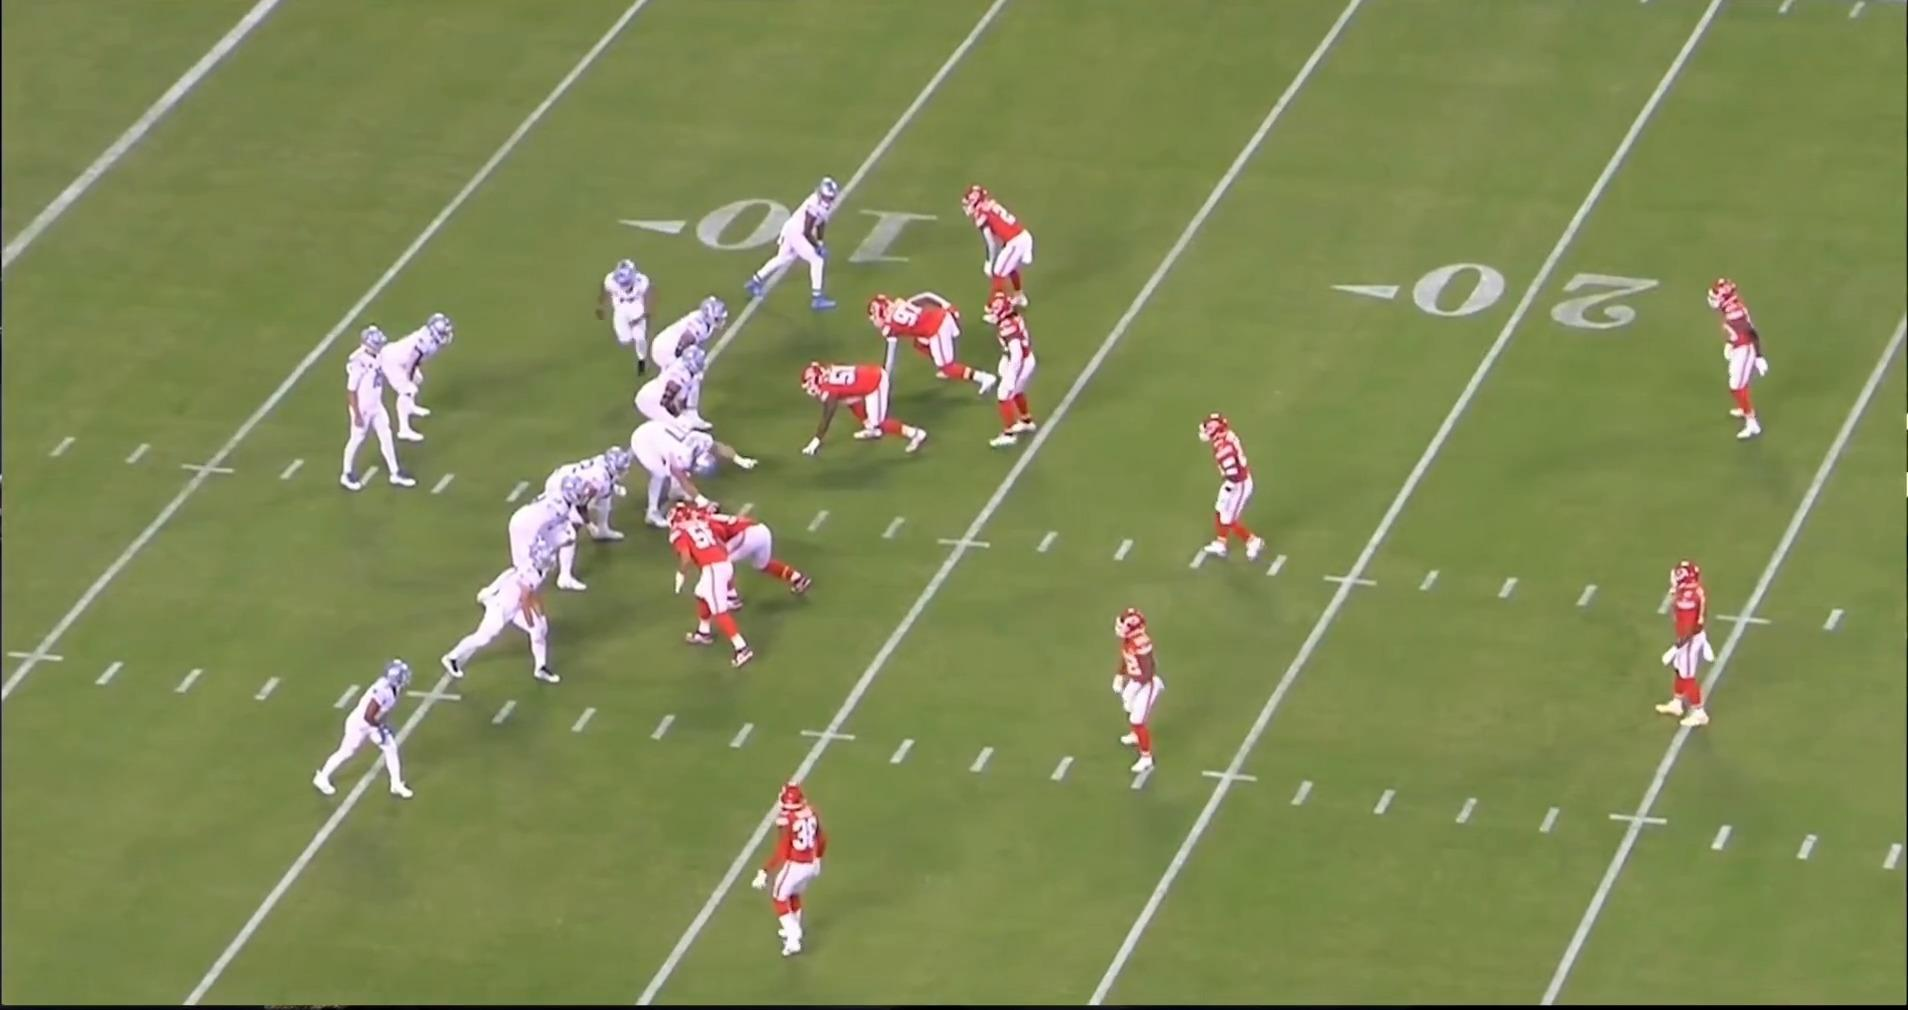player: (445, 543, 574, 690), (315, 651, 430, 806), (673, 499, 766, 668), (740, 174, 850, 316), (477, 473, 589, 609), (754, 779, 836, 964), (326, 330, 415, 500), (686, 505, 821, 610), (864, 291, 997, 396), (793, 357, 929, 456), (1656, 557, 1723, 739), (1705, 271, 1773, 448), (1194, 410, 1268, 568), (534, 442, 626, 564), (627, 413, 719, 534), (1107, 604, 1170, 777), (966, 180, 1040, 324), (388, 310, 463, 446), (972, 298, 1036, 455), (594, 246, 658, 374), (653, 295, 734, 386), (634, 353, 714, 435)
